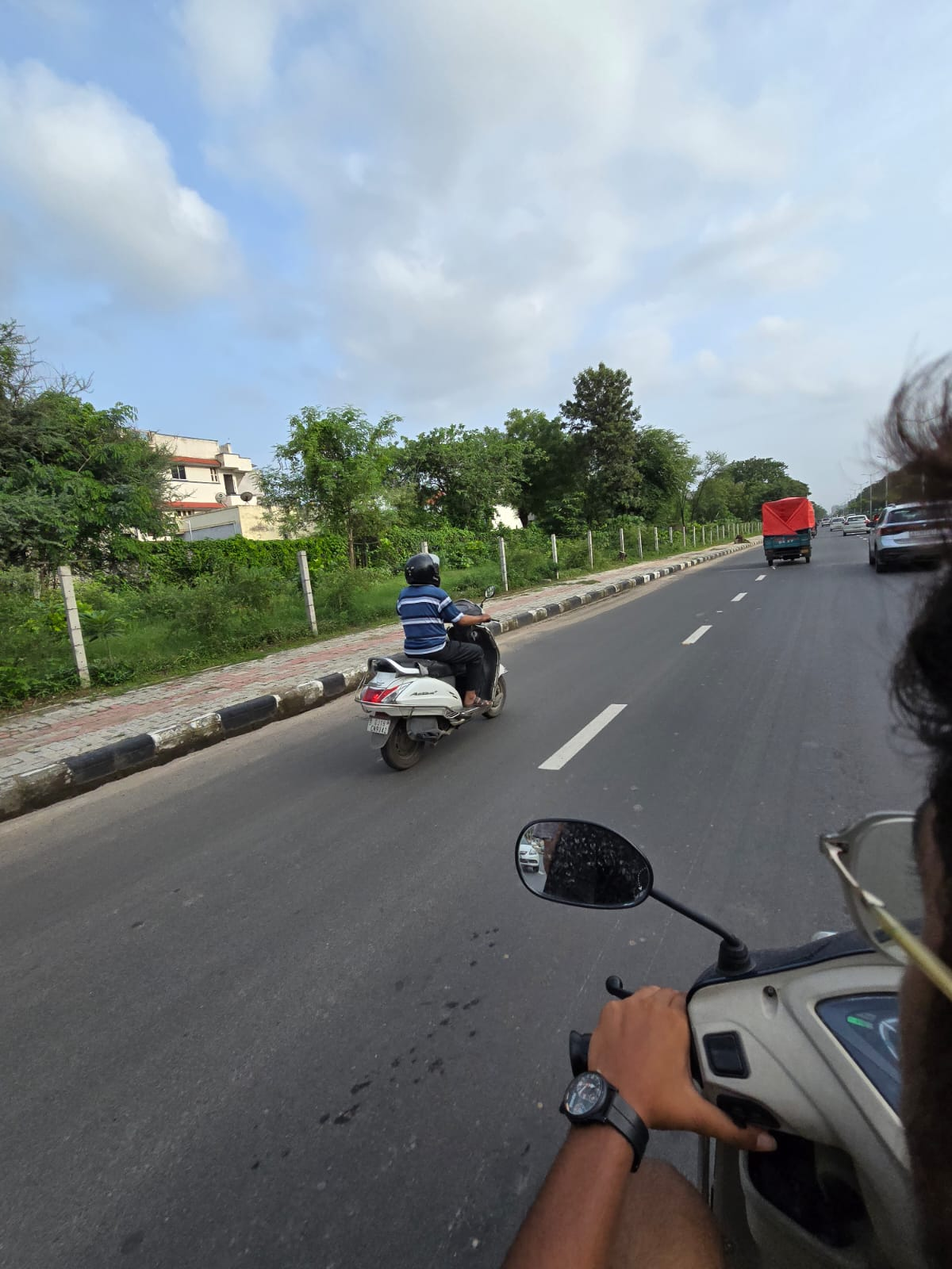BikeWithRider: (347, 544, 517, 777)
Helmet: (398, 548, 447, 592)
